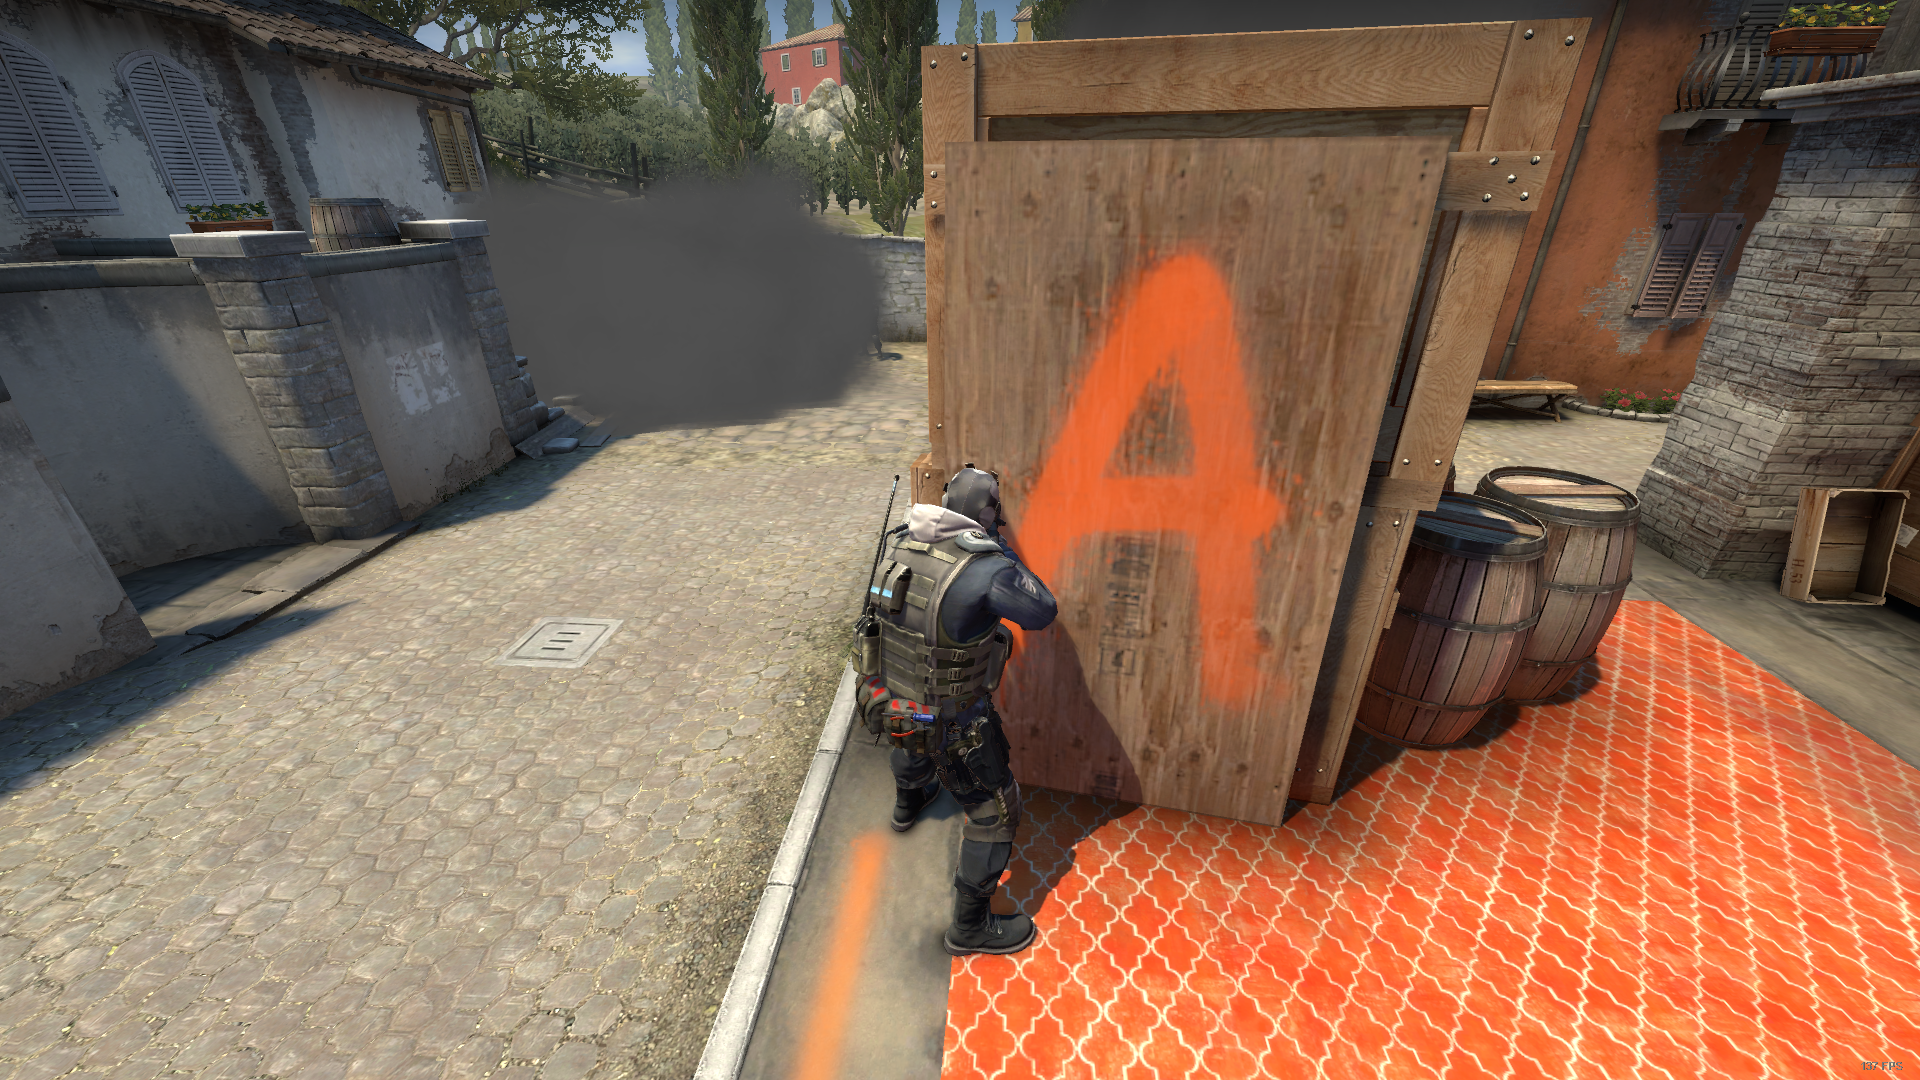ct: (856, 464, 1058, 955)
